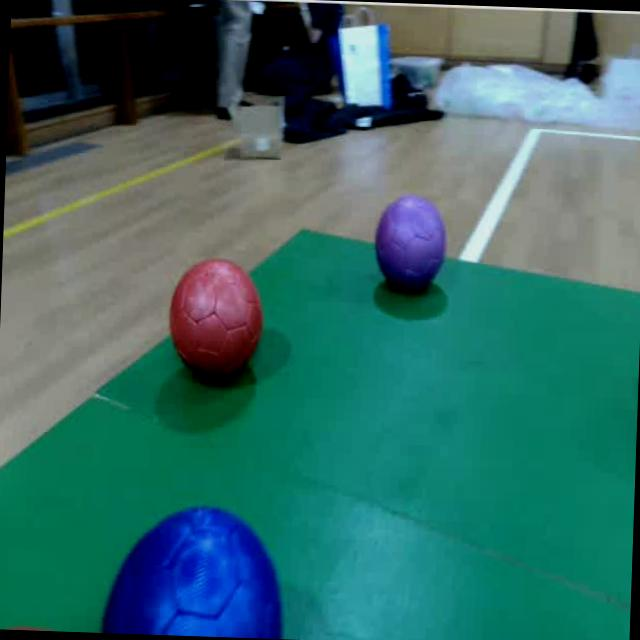blue_ball: (103, 498, 296, 639)
purple_ball: (375, 193, 450, 299)
red_ball: (168, 256, 266, 381), (0, 618, 64, 631)
